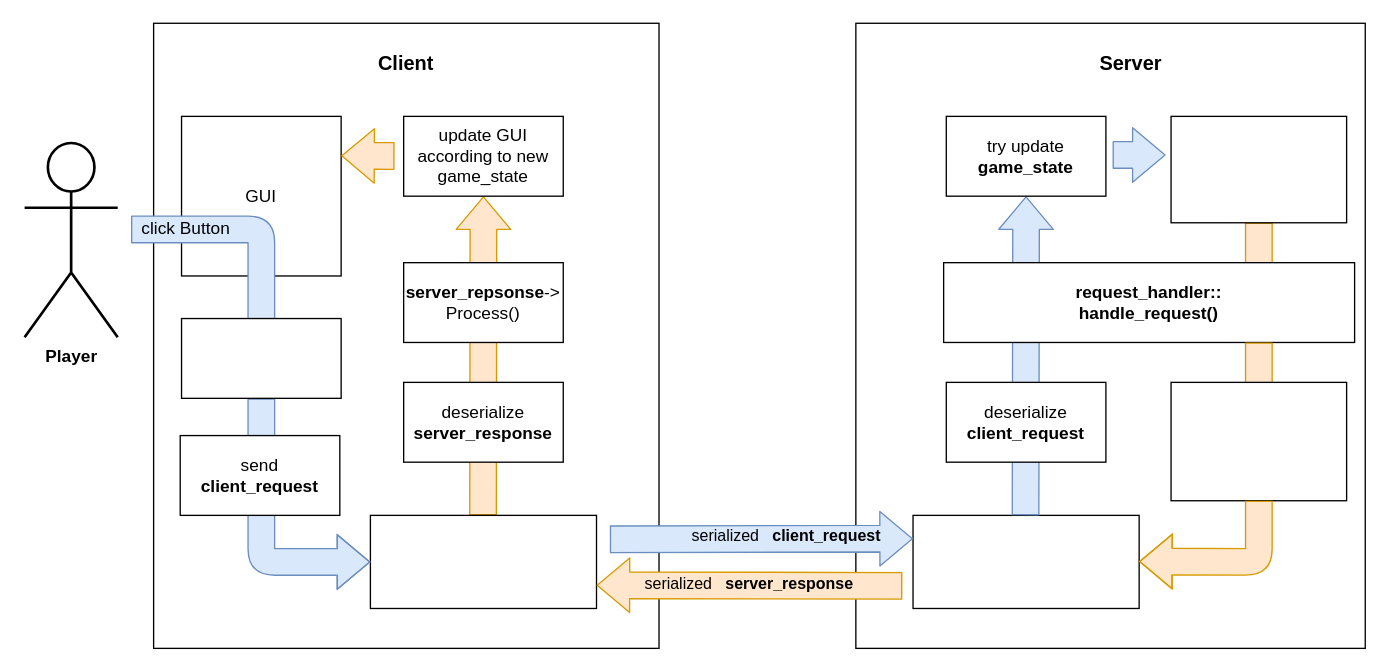
Image size: 1389x672. Some labels were removed from this diagram. The centre of each missing label's shape, as x and y in pixels:
"client_network_manager" goes at pixel 483 561.
"create client_request" goes at pixel 260 357.
"create server_response with new game_state (or update error)" goes at pixel 1258 169.
"send server_response (to all players if game_state has changed)" goes at pixel 1258 441.
"server_network_manager" goes at pixel 1025 561.
